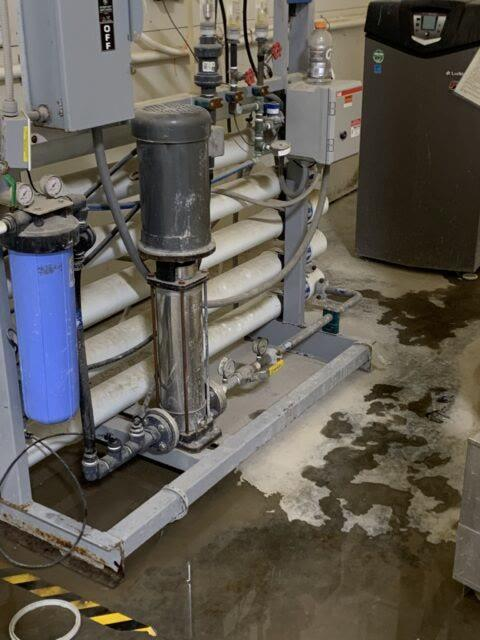water accumulation: (0, 384, 480, 640), (360, 266, 480, 352)
